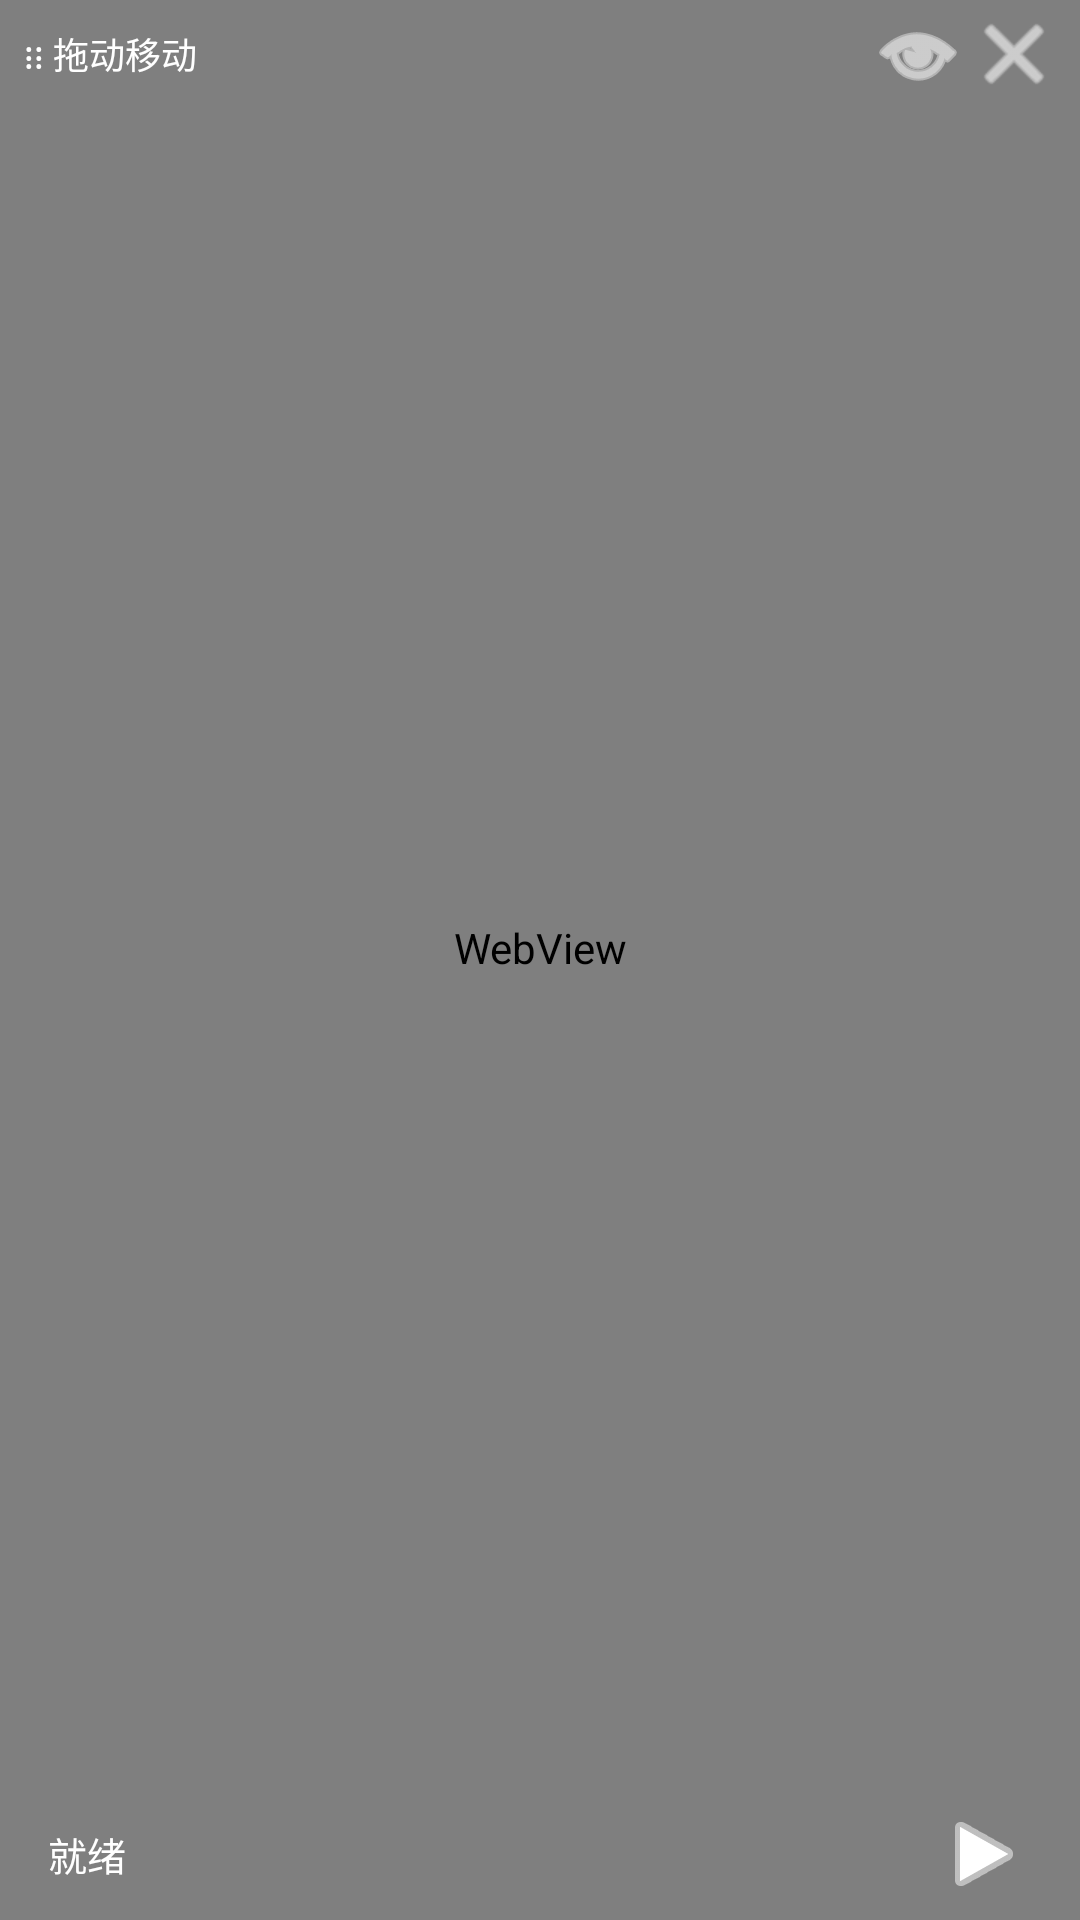

Icons on this 1080 × 1920 Android screen, each with its box as (x1, y1, x2, y2):
关闭: (984, 24, 1044, 84)
播放/暂停: (955, 1822, 1013, 1886)
